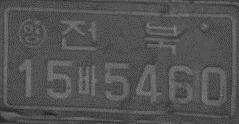0: (199, 65, 227, 106)
1: (13, 57, 41, 99)
4: (134, 63, 161, 106)
5: (45, 58, 72, 100), (103, 61, 129, 102)
6: (167, 64, 193, 104)
바: (76, 64, 98, 98)
영: (17, 17, 47, 49)
전북_D: (58, 18, 178, 55)
